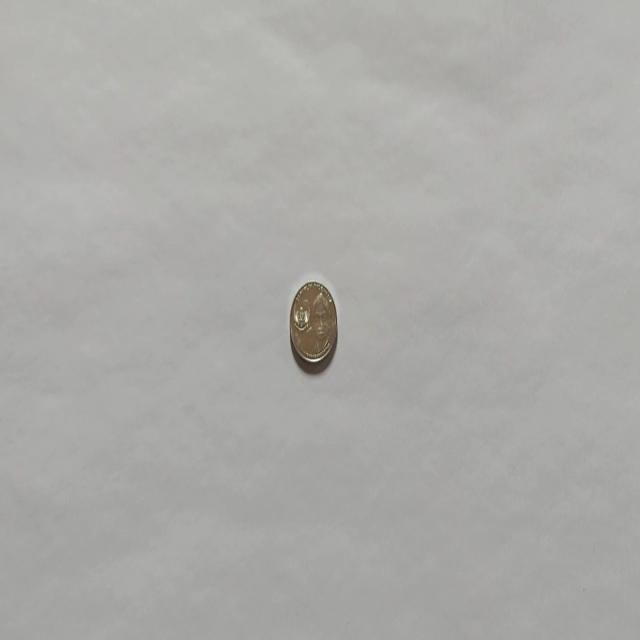dua ratus rupiah: (288, 279, 338, 365)
